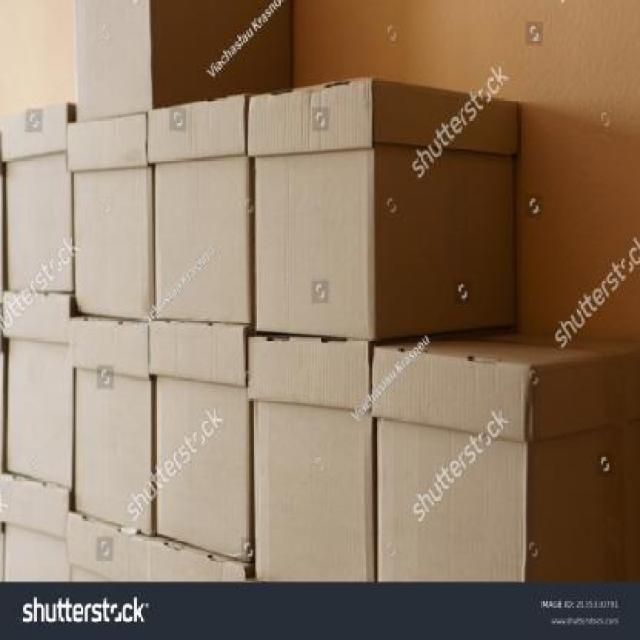BoxFace: (374, 351, 530, 584), (248, 82, 377, 344), (250, 334, 372, 578), (148, 316, 252, 558), (149, 95, 251, 322), (68, 318, 152, 536), (66, 114, 154, 322), (0, 101, 74, 290), (2, 294, 72, 492), (74, 0, 152, 120)
